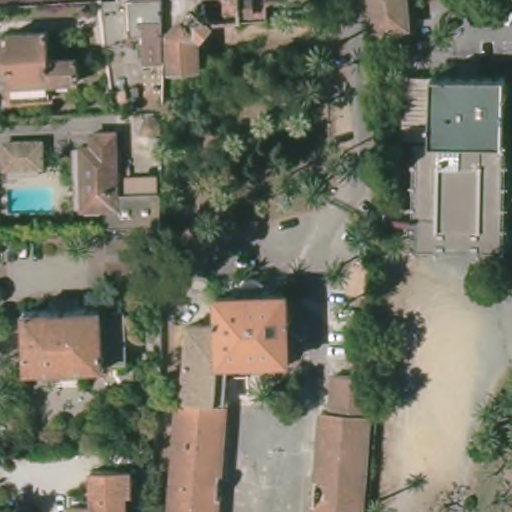pool: (3, 183, 56, 214)
